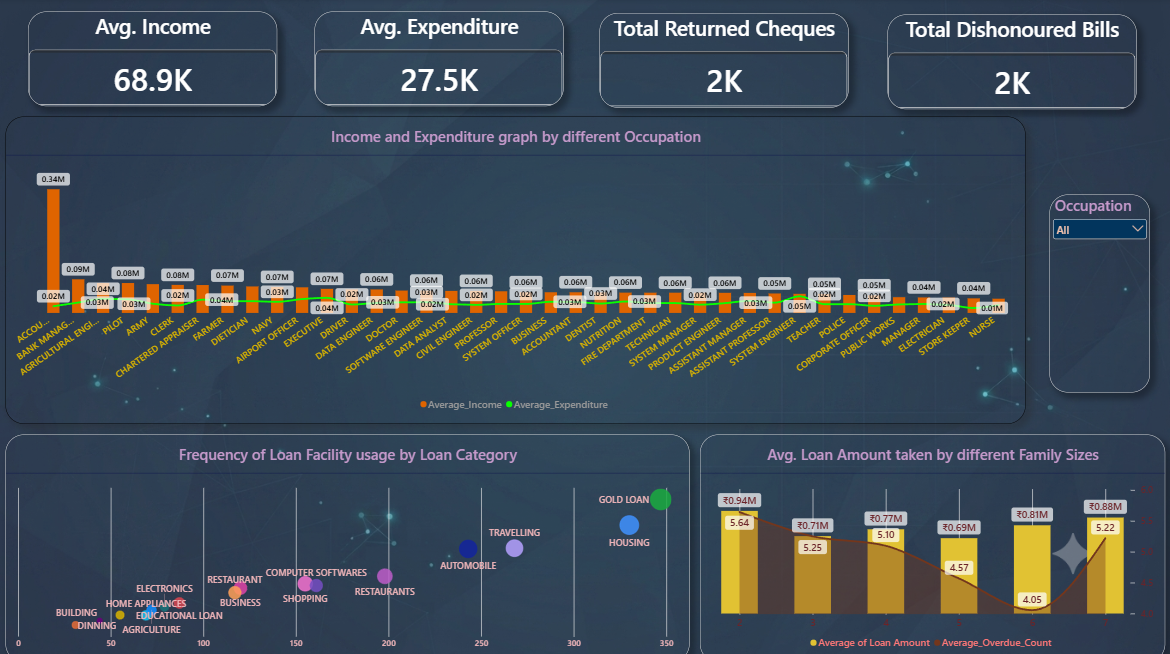

The page's visual inventory and layout, read from the dashboard file:
{"tool":"powerbi","page":{"name":"Page 2","canvas":[1920,1080],"ordinal":1},"visuals":[{"type":"lineStackedColumnComboChart","title":"Income and Expenditure graph by different Occupation","fields":{"Category":["loan.Occupation"],"Y":["loan.Average_Income"],"Y2":["loan.Average_Expenditure"]},"box":[17.1,192.7,1659.1,500.2],"z":0},{"type":"scatterChart","title":"Frequency of Loan Facility usage by Loan Category","fields":{"Series":["loan.Loan Category"],"Size":["Sum(loan. Debt Record)"],"X":["Sum(loan.Use Frequency)"],"Y":["Sum(loan.Overdue)"]},"box":[17.1,710,1112.6,370.9],"z":1000},{"type":"lineStackedColumnComboChart","title":"Avg. Loan Amount taken by different Family Sizes","fields":{"Category":["loan.Family Size"],"Y":["Avg(loan.Loan Amount)"],"Y2":["loan.Average_Overdue_Count"]},"box":[1146.7,710,756.3,370.9],"z":2000},{"type":"slicer","fields":{"Values":["loan.Occupation"]},"box":[1715.2,319.6,163.5,322.1],"z":3000},{"type":"cardVisual","title":"Avg. Income","fields":{"Data":["loan.Average_Income"]},"box":[54.7,21.3,405,153.7],"z":4000},{"type":"cardVisual","title":"Avg. Expenditure","fields":{"Data":["loan.Average_Expenditure"]},"box":[519.5,21.3,405,153.7],"z":5000},{"type":"cardVisual","title":"Total Returned Cheques","fields":{"Data":["loan.Total_No_Returned_Cheque"]},"box":[984.3,24.3,405,153.7],"z":6000},{"type":"cardVisual","title":"Total Dishonoured Bills","fields":{"Data":["loan.Sum_of_Dishour_of_bill"]},"box":[1452.2,27.3,405,153.7],"z":7000}]}

Visuals, with their boxes in screenshot pixels (x1, y1, x2, y2), scaled from the page's 1920x1080 canvas onto the 1170x654 screenshot:
"Income and Expenditure graph by different Occupation" lineStackedColumnComboChart: <bbox>10, 117, 1021, 420</bbox>
"Frequency of Loan Facility usage by Loan Category" scatterChart: <bbox>10, 430, 688, 653</bbox>
"Avg. Loan Amount taken by different Family Sizes" lineStackedColumnComboChart: <bbox>699, 430, 1160, 653</bbox>
slicer - loan.Occupation: <bbox>1045, 194, 1145, 389</bbox>
"Avg. Income" cardVisual: <bbox>33, 13, 280, 106</bbox>
"Avg. Expenditure" cardVisual: <bbox>317, 13, 563, 106</bbox>
"Total Returned Cheques" cardVisual: <bbox>600, 15, 847, 108</bbox>
"Total Dishonoured Bills" cardVisual: <bbox>885, 17, 1132, 110</bbox>
